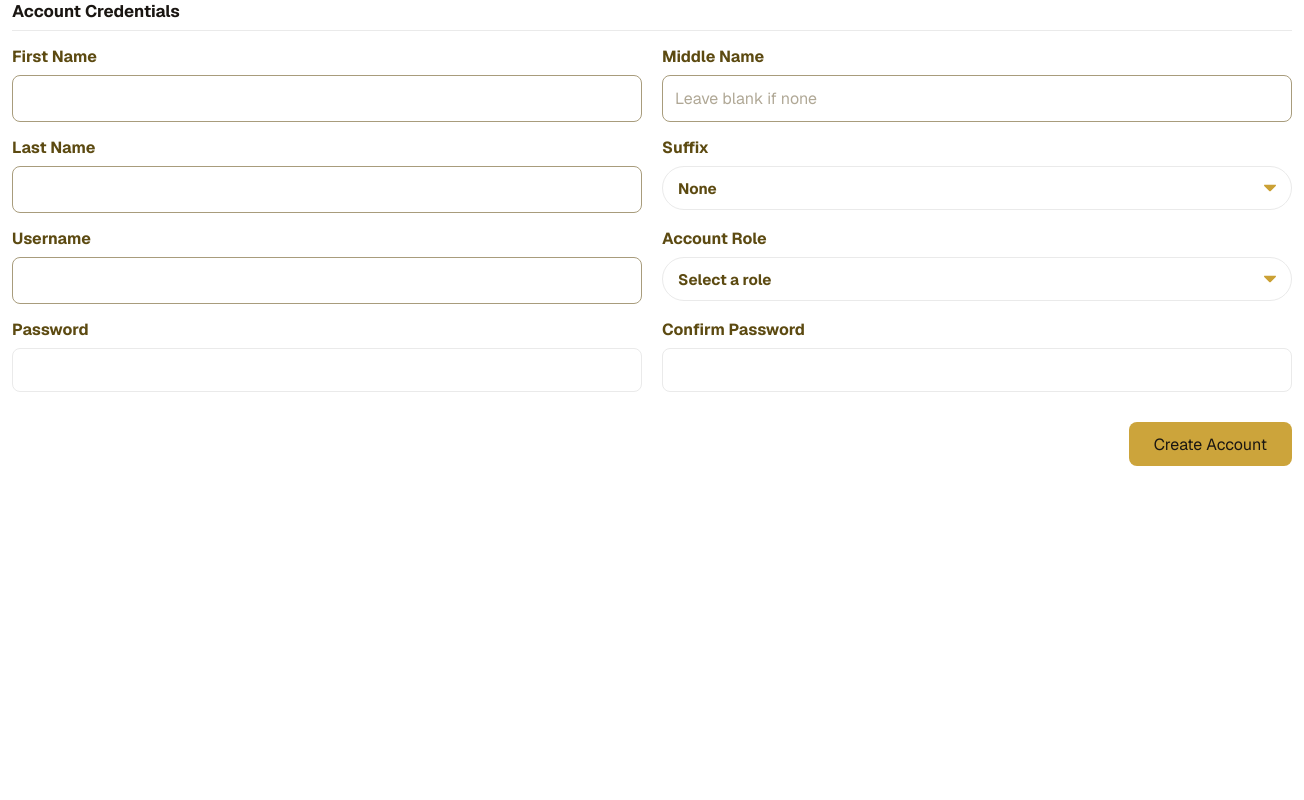
Test: AccountForm › disables submit for a Worker account until a photo is chosen
Select "Worker" in the dropdown labelled "Account Role" at (977, 279), box [662,257,1292,301]
(page scrolled)
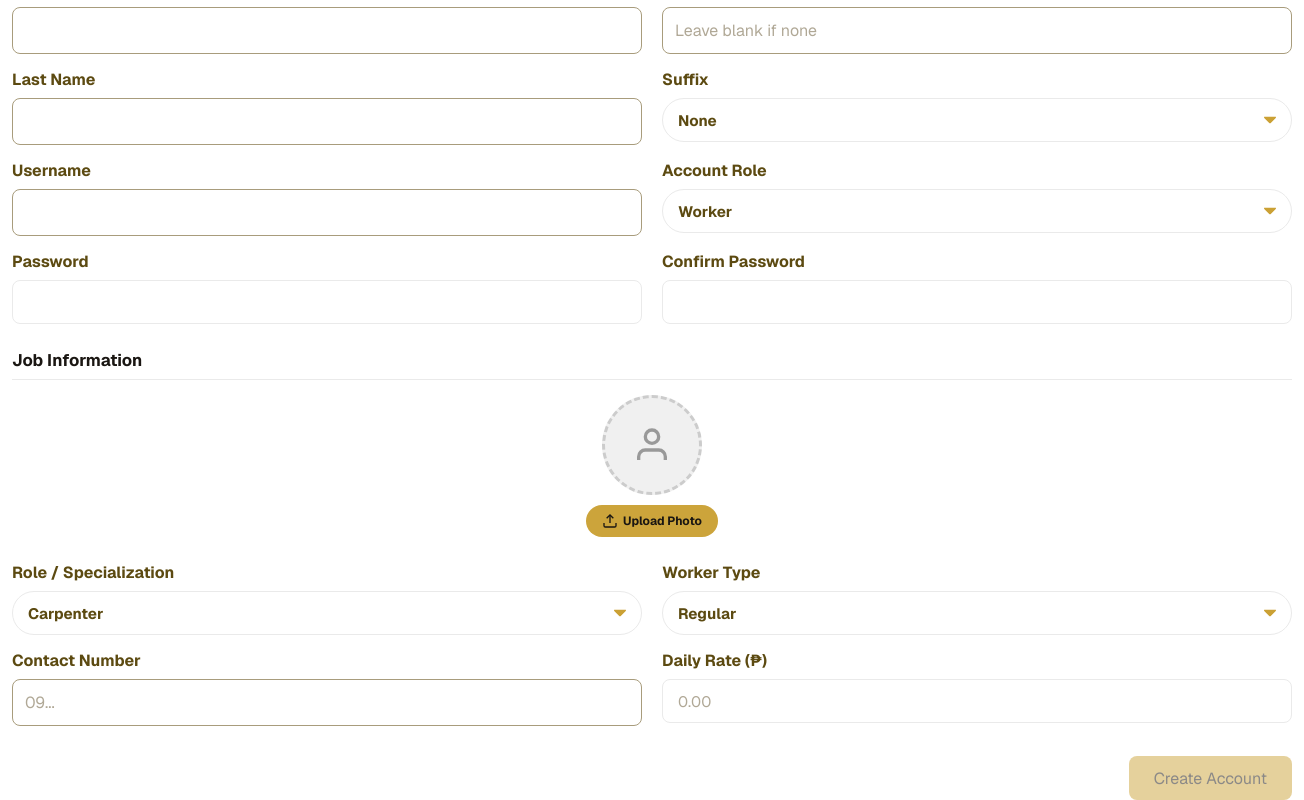
Expected: the button "Create Account" is disabled, [1129,756,1292,799]
